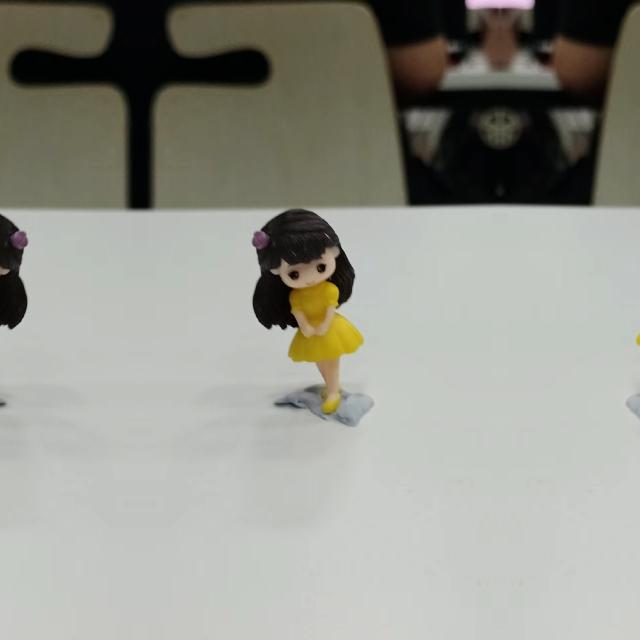woman head: (242, 207, 341, 291), (0, 207, 38, 291)
